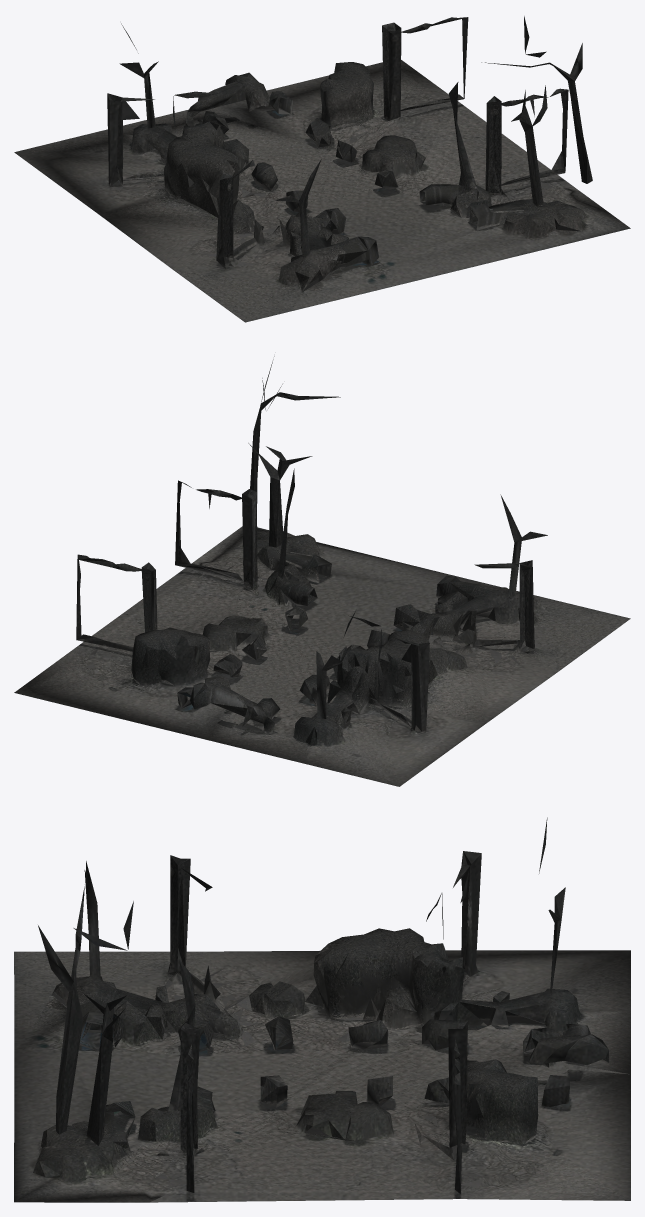
File: Meshy_AI_Trees_are_sparse_thi_0822235251_texture.obj
3 views of the same model, one above another, from view 1: azimuth 30°, elevation 25°; view 2: azimuth 150°, elevation 25°; view 3: azimuth 270°, elevation 25° (orthographic). The views are drawn at different scales.
Visible parts, largest first — view 1: Meshy_AI_Trees_are_sparse_thi_0822235251_texture; view 2: Meshy_AI_Trees_are_sparse_thi_0822235251_texture; view 3: Meshy_AI_Trees_are_sparse_thi_0822235251_texture.
Part boxes in pixels (box(x1,y1,x2,y2)): Meshy_AI_Trees_are_sparse_thi_0822235251_texture: box(14, 16, 630, 322); Meshy_AI_Trees_are_sparse_thi_0822235251_texture: box(14, 356, 630, 786); Meshy_AI_Trees_are_sparse_thi_0822235251_texture: box(14, 817, 630, 1202).
Size of the model in its own units: 1.84 by 0.9027 by 1.9.
Materials: 1 (1 with a texture image).
